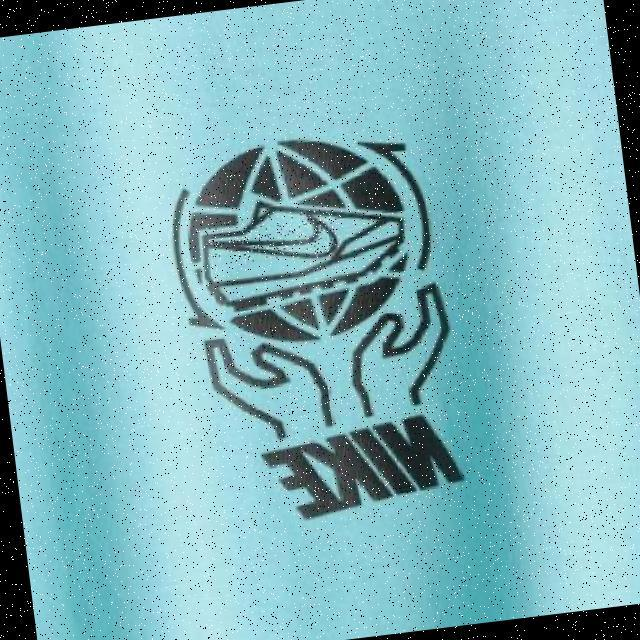Nike: (203, 207, 342, 269)
